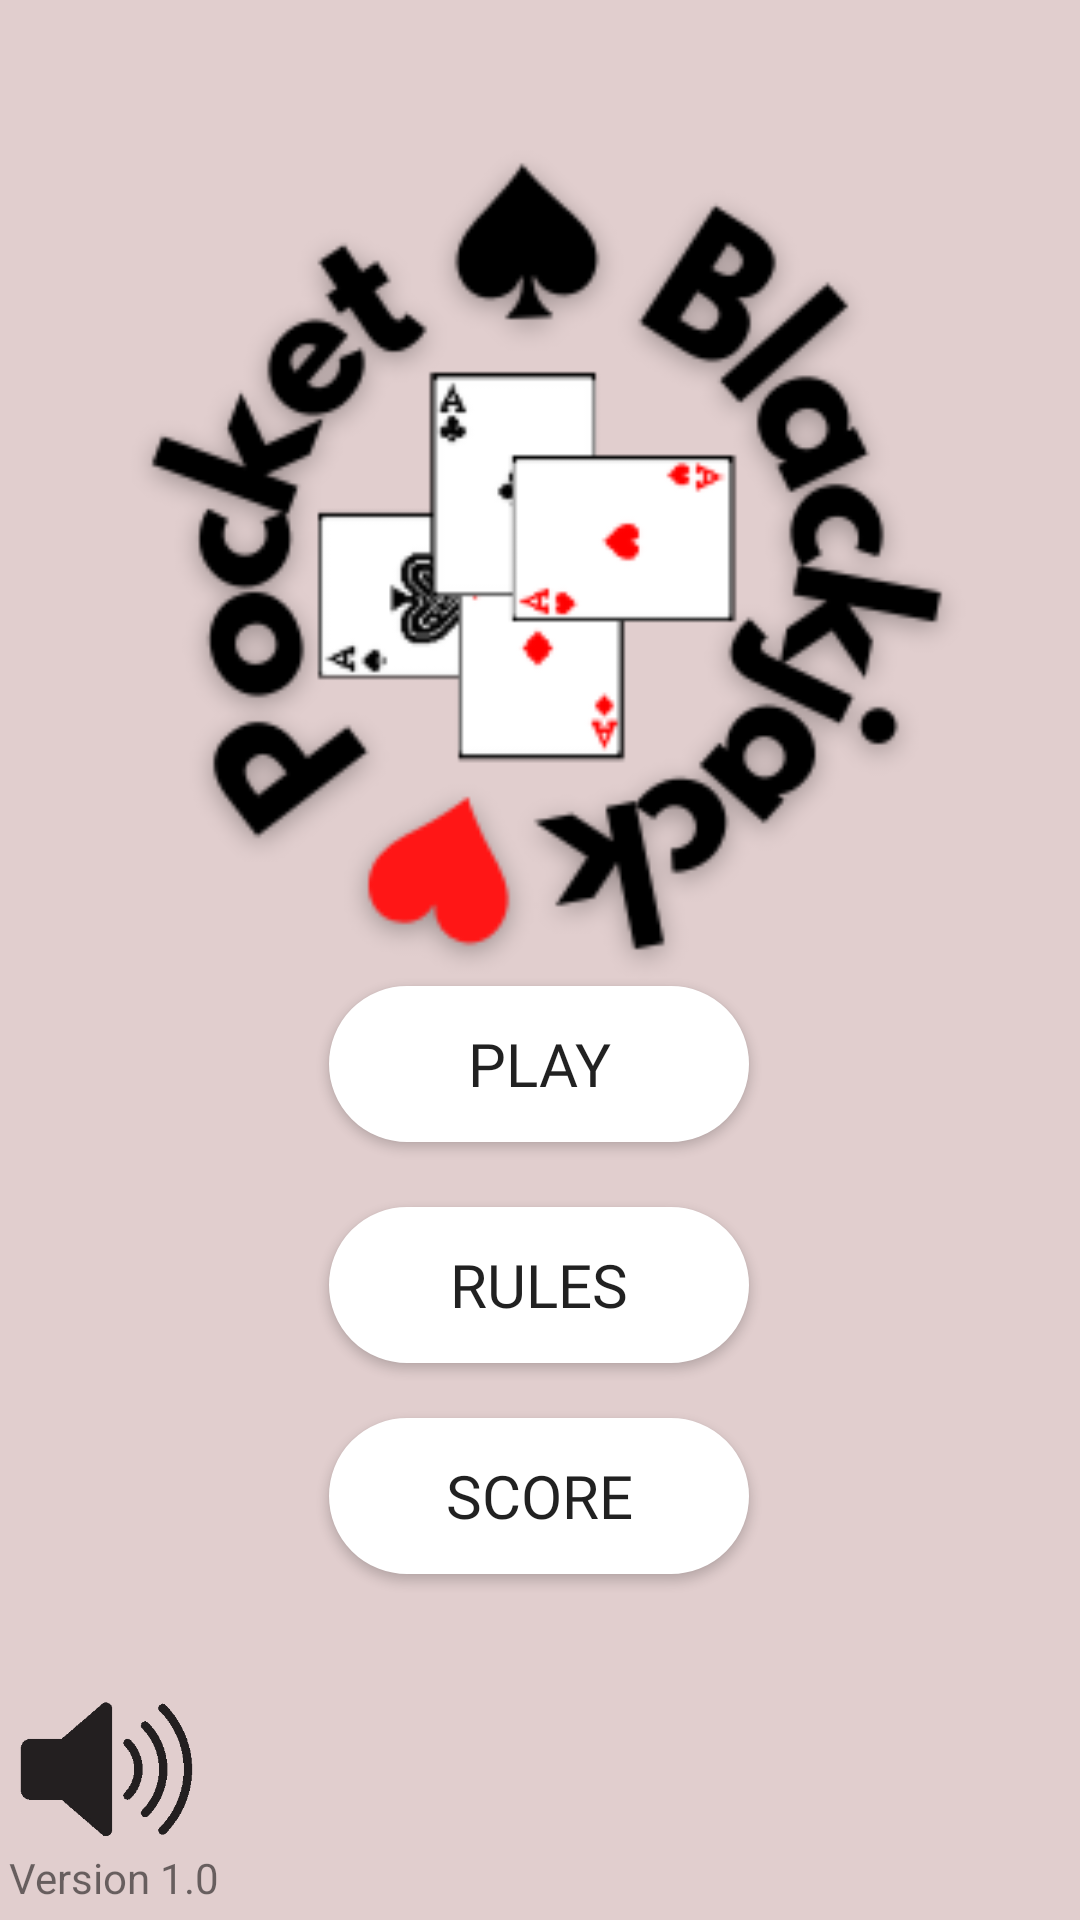

Point at icon controls on the screen. Image size 1080×1920, points as point (x, y).
sound: point (106, 1769)
